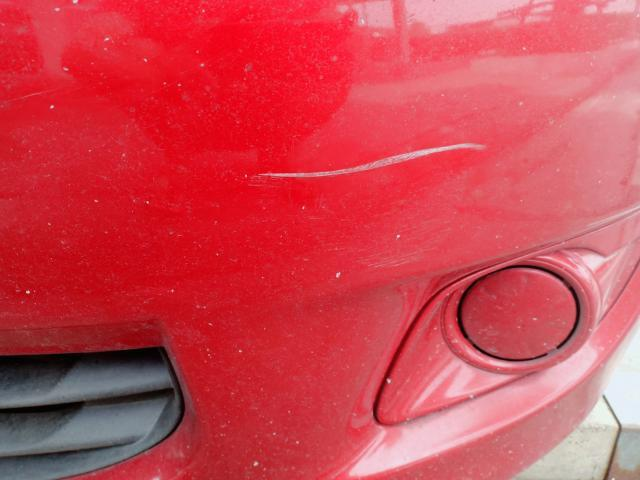scratch: (245, 139, 501, 183)
